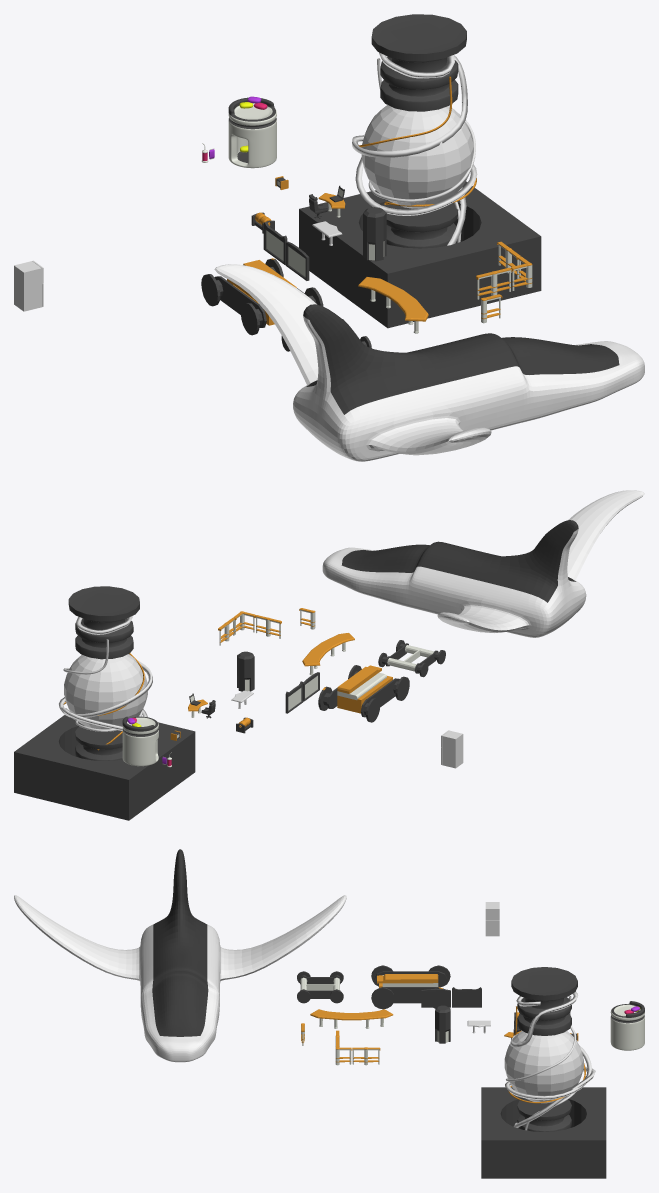
Rendered from PropBox.fbx.
3 views of the same model, one above another, from view 1: azimuth 30°, elevation 25°; view 2: azimuth 150°, elevation 25°; view 3: azimuth 270°, elevation 25° (orthographic). The views are drawn at different scales.
Visible parts, largest first — view 1: Ship, CimientoBaseEstambre, BasePoder, BplaEstambrePoder, CableYarn, Cama, RoboCarro, Refri, Escritoriov2, Pilar, LineaEstambre1, Pantalla gigante.001 (+1 smaller); view 2: Ship, CimientoBaseEstambre, BasePoder, BplaEstambrePoder, RoboCarro, Cama, CableYarn, Robo Carro Interno, Refri, Escritoriov2, Pilar; view 3: Ship, CimientoBaseEstambre, BasePoder, BplaEstambrePoder, RoboCarro, CableYarn, Cama, Robo Carro Interno, Escritoriov2, Pilar, Pantalla gigante, Pantalla gigante.001 (+1 smaller).
Boxes of the visible parts, left/top/right/bottom form: Ship: left=214, top=264, right=644, bottom=461; CimientoBaseEstambre: left=299, top=181, right=541, bottom=328; BasePoder: left=371, top=14, right=466, bottom=248; BplaEstambrePoder: left=361, top=105, right=473, bottom=208; CableYarn: left=352, top=52, right=477, bottom=245; Cama: left=228, top=97, right=276, bottom=168; RoboCarro: left=201, top=258, right=323, bottom=335; Refri: left=14, top=260, right=43, bottom=311; Escritoriov2: left=358, top=277, right=428, bottom=333; Pilar: left=363, top=207, right=386, bottom=261; LineaEstambre1: left=368, top=58, right=475, bottom=242; Pantalla gigante.001: left=285, top=241, right=309, bottom=280; Ship: left=322, top=490, right=644, bottom=637; CimientoBaseEstambre: left=14, top=715, right=195, bottom=820; BasePoder: left=68, top=586, right=139, bottom=760; BplaEstambrePoder: left=64, top=654, right=147, bottom=729; RoboCarro: left=318, top=665, right=409, bottom=722; Cama: left=122, top=716, right=158, bottom=766; CableYarn: left=59, top=616, right=152, bottom=730; Robo Carro Interno: left=378, top=640, right=445, bottom=677; Refri: left=441, top=730, right=463, bottom=768; Escritoriov2: left=302, top=633, right=354, bottom=675; Pilar: left=237, top=651, right=254, bottom=691; Ship: left=14, top=849, right=346, bottom=1062; CimientoBaseEstambre: left=481, top=1087, right=606, bottom=1178; BasePoder: left=511, top=967, right=577, bottom=1131; BplaEstambrePoder: left=504, top=1031, right=583, bottom=1103; RoboCarro: left=371, top=965, right=450, bottom=1009; CableYarn: left=505, top=992, right=595, bottom=1127; Cama: left=610, top=1001, right=644, bottom=1050; Robo Carro Interno: left=297, top=971, right=343, bottom=1003; Escritoriov2: left=310, top=1009, right=393, bottom=1028; Pilar: left=435, top=1005, right=450, bottom=1043; Pantalla gigante: left=452, top=987, right=481, bottom=1007; Pantalla gigante.001: left=421, top=989, right=450, bottom=1007.
Bounding box in the file's own units: 11386 × 5299 × 17169.
